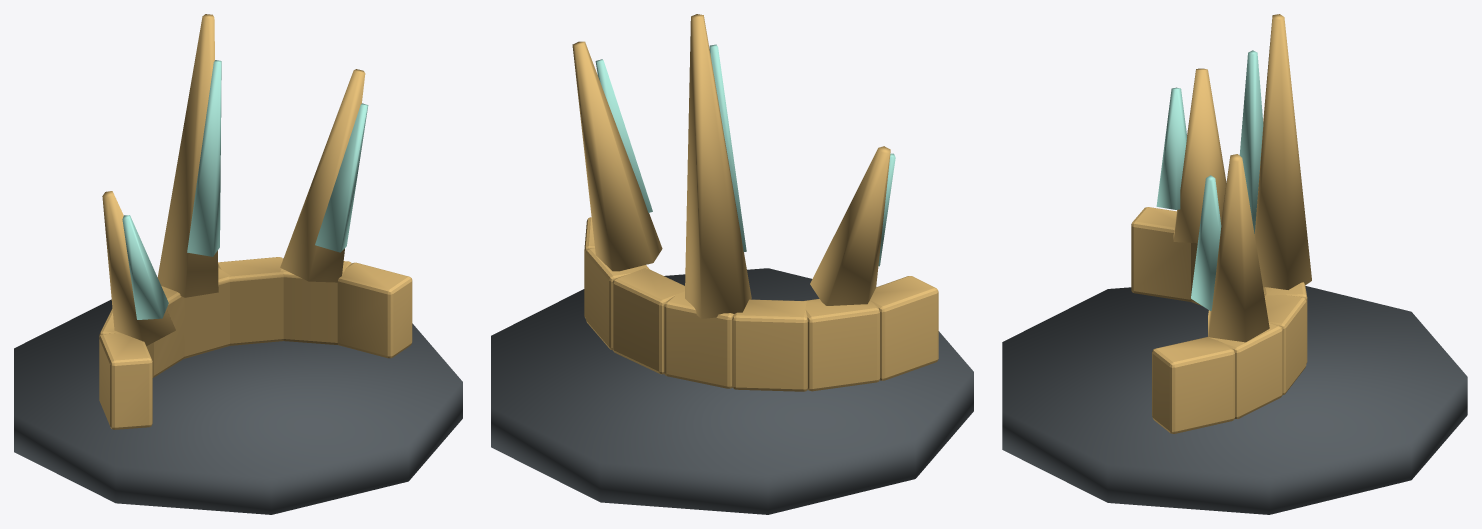
Rendered from crown-fragment-v1.glb.
3 views of the same model, side by side, from view 1: azimuth 30°, elevation 25°; view 2: azimuth 150°, elevation 25°; view 3: azimuth 270°, elevation 25° (orthographic). The views are drawn at different scales.
Parts seen in each view (by area): view 1: GB_CROWN_BASALT, GB_CROWN_GOLD, GB_CROWN_MEMORY; view 2: GB_CROWN_BASALT, GB_CROWN_GOLD, GB_CROWN_MEMORY; view 3: GB_CROWN_BASALT, GB_CROWN_GOLD, GB_CROWN_MEMORY.
Boxes of the visible parts, x1,y1,x2,y2 form: GB_CROWN_BASALT: [14, 299, 462, 514]; GB_CROWN_GOLD: [99, 14, 412, 429]; GB_CROWN_MEMORY: [122, 60, 368, 319]; GB_CROWN_BASALT: [491, 268, 973, 514]; GB_CROWN_GOLD: [572, 14, 938, 391]; GB_CROWN_MEMORY: [595, 44, 895, 266]; GB_CROWN_BASALT: [1002, 286, 1467, 514]; GB_CROWN_GOLD: [1131, 14, 1311, 433]; GB_CROWN_MEMORY: [1156, 50, 1263, 310].
Size of the model in its own units: 1.79 by 1.67 by 1.77.
